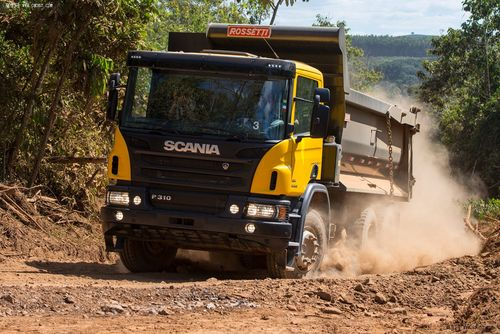卡车: (97, 14, 419, 279)
